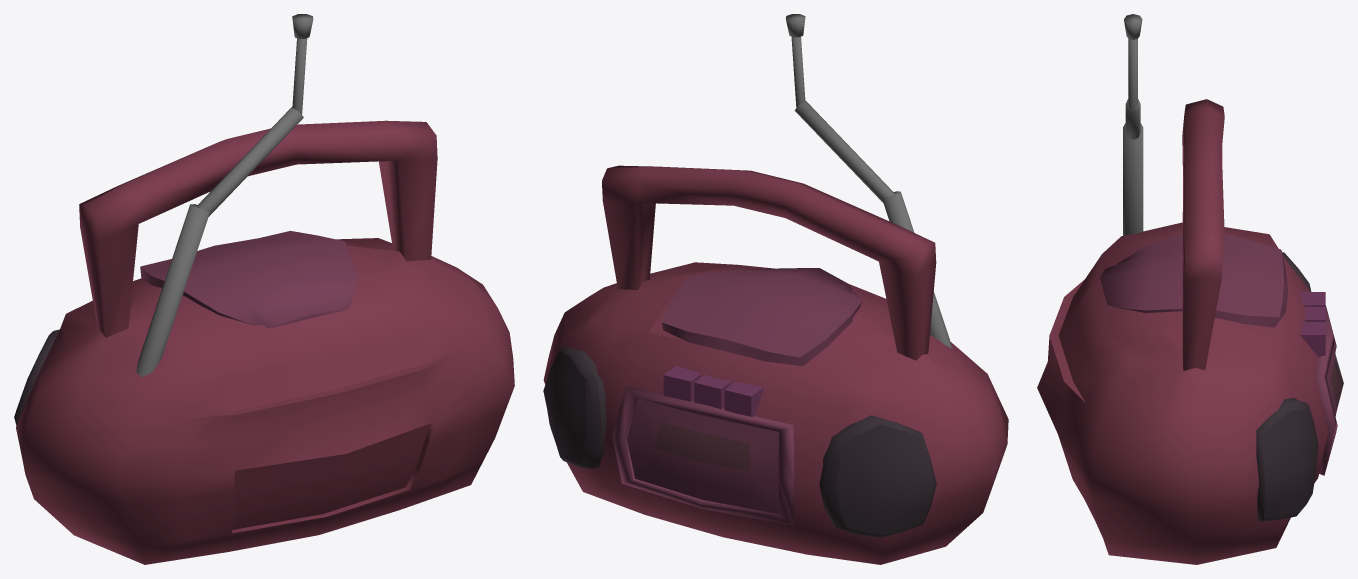
The model's file is props_radio_1.fbx.
The picture shows the model from 3 angles, left to right: view 1: azimuth 30°, elevation 25°; view 2: azimuth 150°, elevation 25°; view 3: azimuth 270°, elevation 25°; orthographic projection. The views are drawn at different scales.
Visible parts, largest first — view 1: propsçradio_1; view 2: propsçradio_1; view 3: propsçradio_1.
Part boxes in pixels (x1,y1,x2,y2): propsçradio_1: (14, 14, 514, 564); propsçradio_1: (543, 14, 1008, 564); propsçradio_1: (1037, 14, 1343, 564).
Bounding box in the file's own units: 1.15 × 0.6774 × 1.15.
